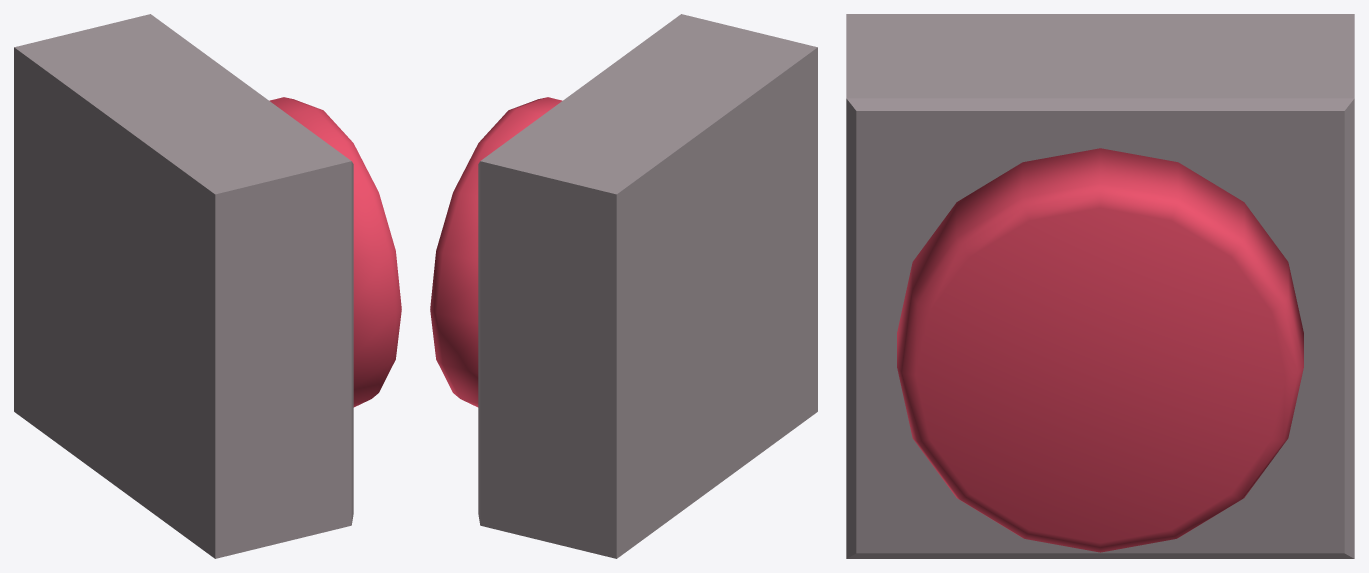
Rendered from Button.fbx.
The picture shows the model from 3 angles, left to right: view 1: azimuth 30°, elevation 25°; view 2: azimuth 150°, elevation 25°; view 3: azimuth 270°, elevation 25°; orthographic projection. The views are drawn at different scales.
Visible parts, largest first — view 1: 立方体, 円柱; view 2: 立方体, 円柱; view 3: 立方体, 円柱.
Boxes of the visible parts, left/top/right/bottom form: 立方体: left=14, top=14, right=353, bottom=558; 円柱: left=269, top=97, right=401, bottom=407; 立方体: left=478, top=14, right=817, bottom=558; 円柱: left=430, top=97, right=562, bottom=407; 立方体: left=846, top=14, right=1354, bottom=558; 円柱: left=897, top=148, right=1303, bottom=552.
Size of the model in its own units: 30.51 by 50 by 50.
